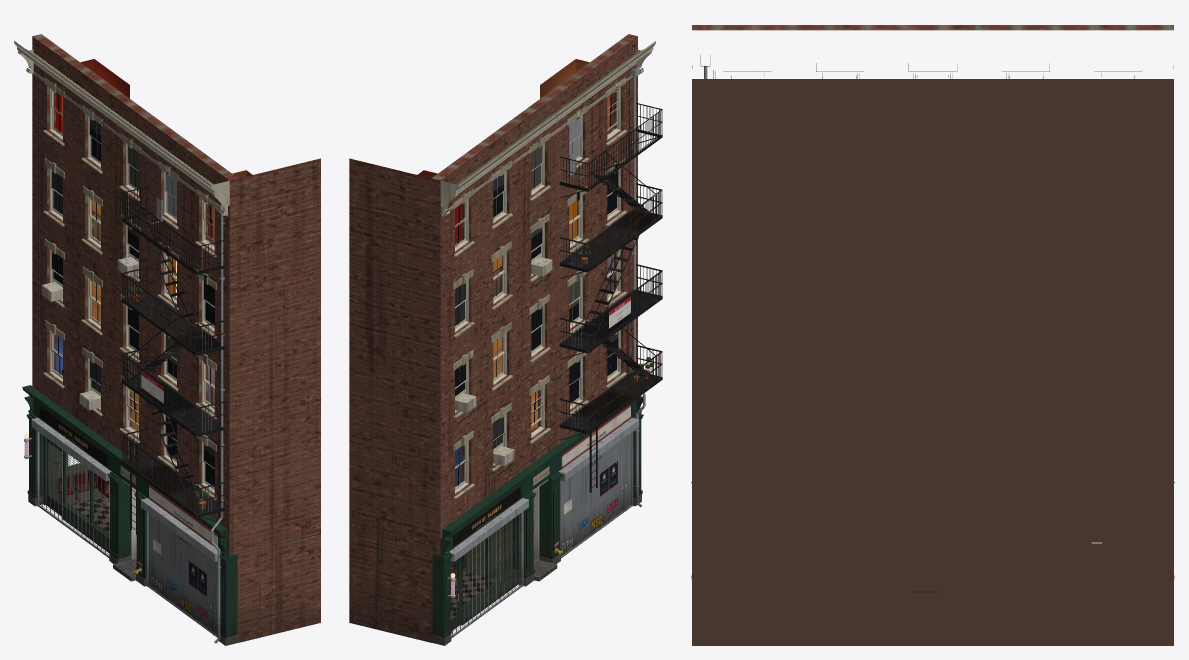
File: SM_Facade_Walkup.glb
3 renders of one model, left to right at view 1: azimuth 30°, elevation 25°; view 2: azimuth 150°, elevation 25°; view 3: azimuth 270°, elevation 25°, orthographic. The views are drawn at different scales.
Parts seen in each view (by area): view 1: SM_Facade_Walkup; view 2: SM_Facade_Walkup; view 3: SM_Facade_Walkup.
Boxes of the visible parts, <box> form: SM_Facade_Walkup: <box>14,34,320,645</box>; SM_Facade_Walkup: <box>349,34,662,645</box>; SM_Facade_Walkup: <box>691,25,1174,645</box>.
Size of the model in its own units: 4.83 by 17.55 by 13.54.
5 materials, 5 textured.
